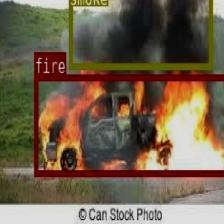fire: (33, 73, 224, 175)
smoke: (68, 0, 212, 68)
